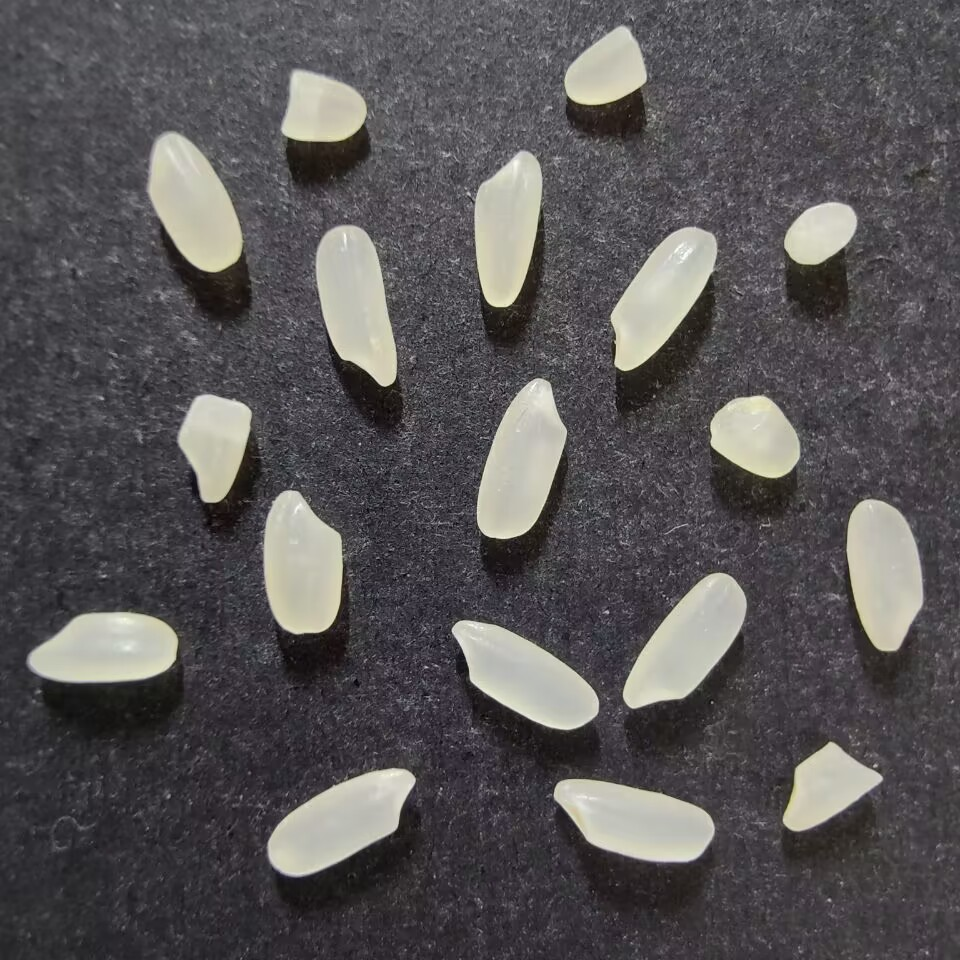broken: (781, 740, 882, 833), (176, 393, 252, 503), (708, 394, 801, 479), (562, 25, 647, 106), (280, 68, 367, 143), (782, 201, 858, 266)
rice: (621, 572, 747, 709), (450, 619, 599, 731), (266, 767, 416, 877), (609, 226, 717, 372), (475, 377, 567, 540), (552, 777, 714, 864), (147, 132, 243, 273), (315, 224, 398, 387), (845, 499, 925, 652), (262, 488, 343, 635), (27, 611, 178, 685), (473, 150, 542, 307)
